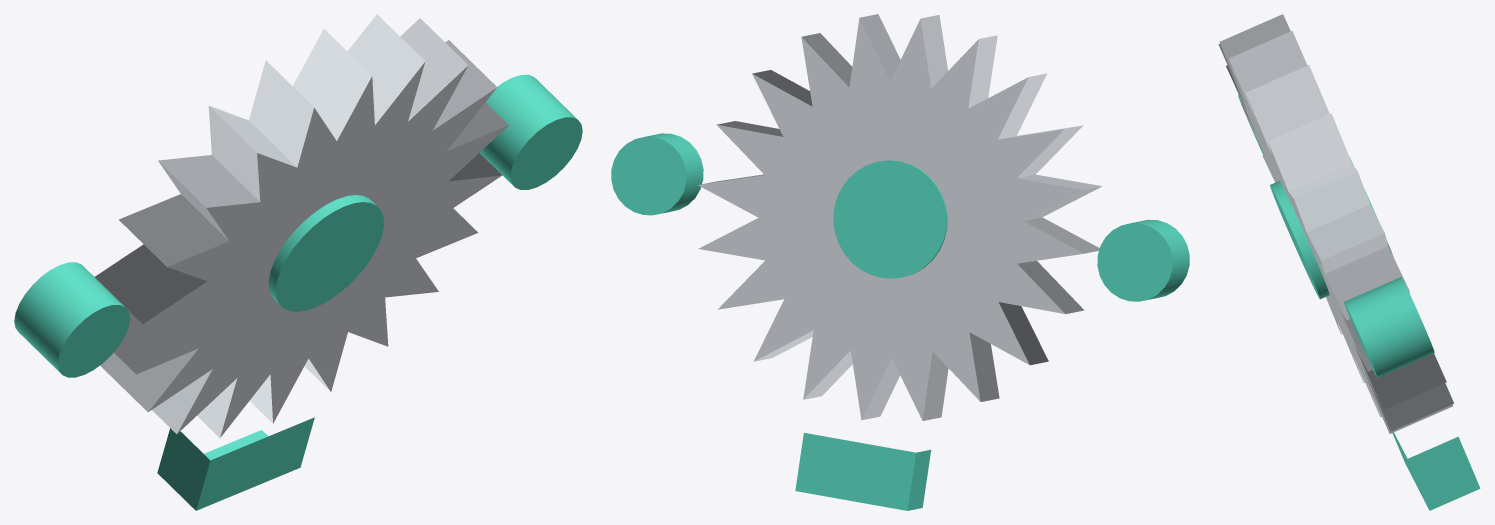
File: industrial-gear.glb
3 views of the same model, side by side, from view 1: azimuth 30°, elevation 25°; view 2: azimuth 150°, elevation 25°; view 3: azimuth 270°, elevation 25° (orthographic). The views are drawn at different scales.
Bounding box in the file's own units: 1.8 × 1.46 × 0.7537.
